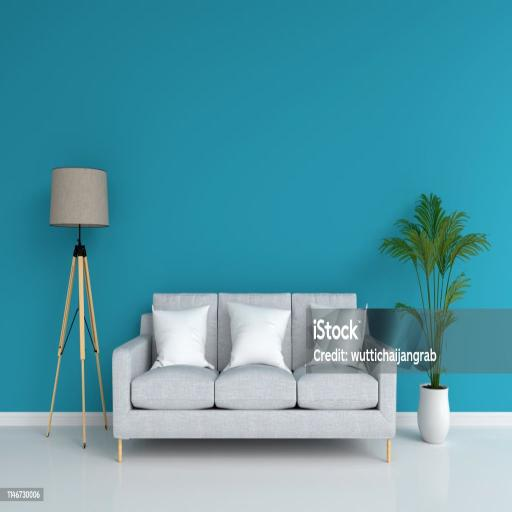back_cushion: (153, 294, 356, 369)
base: (114, 409, 394, 439)
left_arm: (368, 363, 396, 436), (374, 339, 390, 349)
legs: (386, 438, 390, 462), (118, 439, 122, 462)
right_arm: (112, 334, 151, 439)
seat_cushion: (132, 364, 384, 409)
stallion-sofa: (112, 294, 396, 461)
